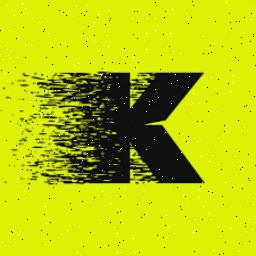k: (50, 47, 210, 197)
